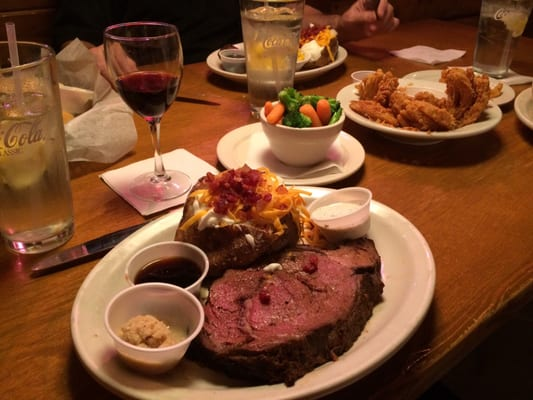pizza: (0, 32, 76, 256), (240, 0, 306, 110), (472, 0, 533, 79)
sandwich: (28, 219, 145, 280)
sushi: (341, 67, 502, 151), (103, 283, 205, 376), (260, 91, 347, 168), (124, 241, 210, 296), (308, 187, 373, 244), (514, 86, 533, 133)
